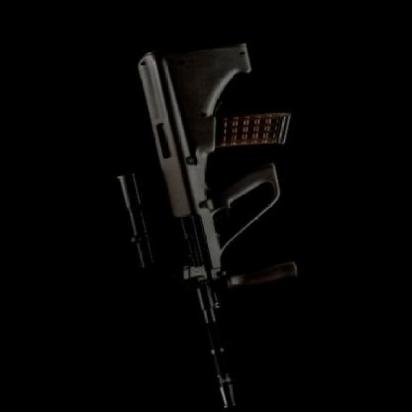Gun: (76, 17, 364, 412)
